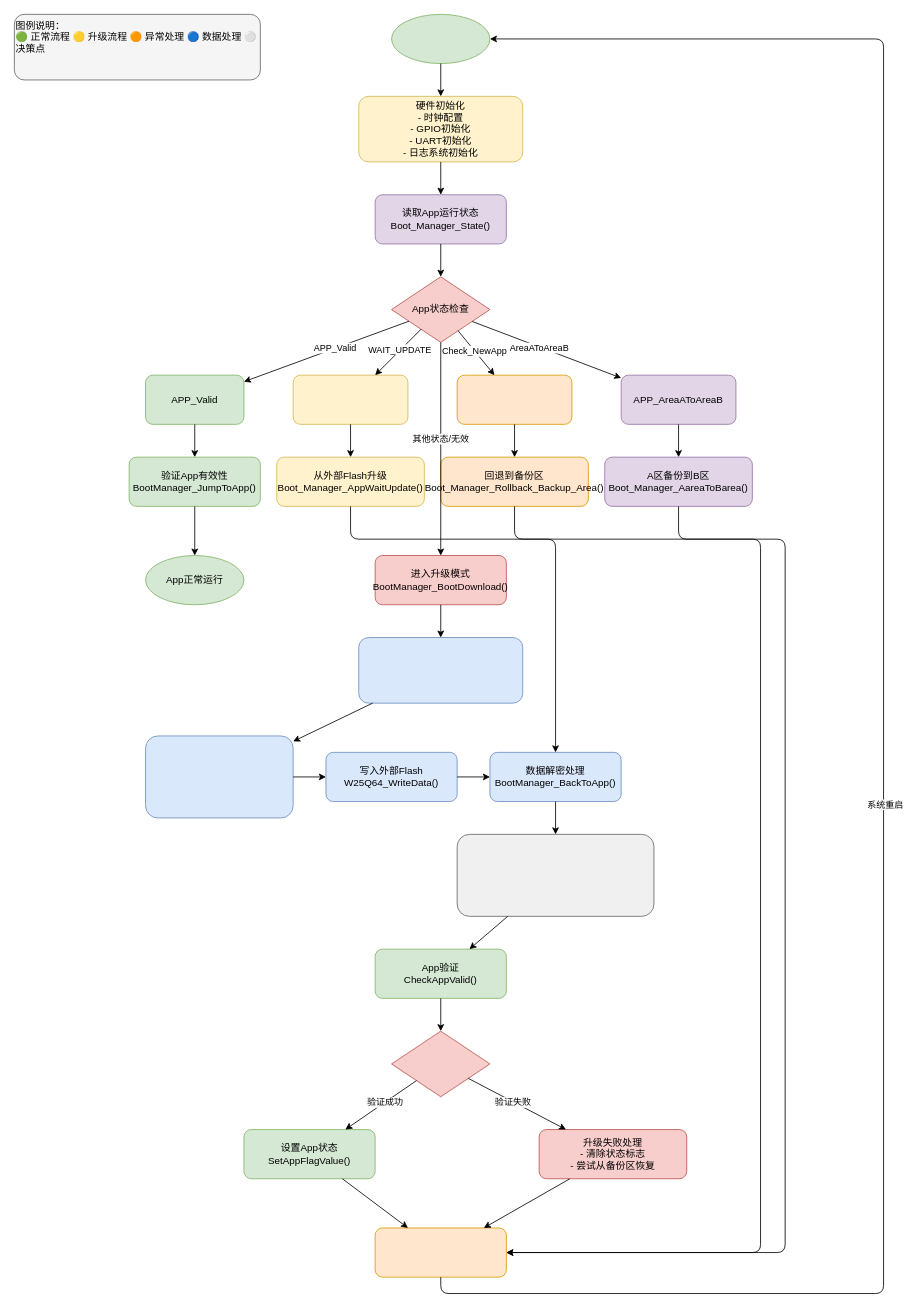
The diagram is 917 pixels wide and 1314 high, and some of its shapes have lost their labels. The centre of each missing label's shape, as x and y in pixels:
"AES系统初始化 - Keros芯片初始化 - 读取密钥和IV" belongs at pixel 440 670.
"APP_Check_NewApp" belongs at pixel 514 399.
"APP_WAIT_UPDATE" belongs at pixel 350 399.
"Ymodem协议接收 - 握手建立连接 - 接收文件信息 - 循环接收数据包 - CRC校验" belongs at pixel 219 776.
"系统上电启动" belongs at pixel 440 39.
"系统重启 NVIC_SystemReset()" belongs at pixel 440 1252.
"解密详细流程 1. 读取加密数据(16字节) 2. AES-256 CBC解密 3. 写入内部Flash(4字节×4) 4. 循环处理所有数据块" belongs at pixel 555 875.
"验证结果" belongs at pixel 440 1063.
